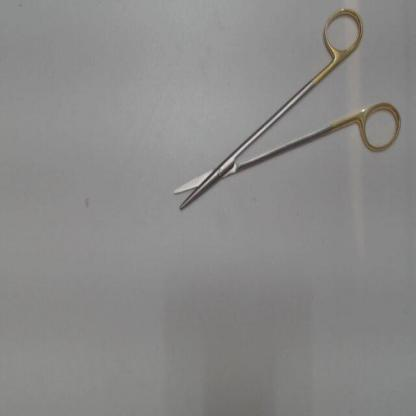7 Metzenbaum Scissors: (172, 6, 404, 212)
